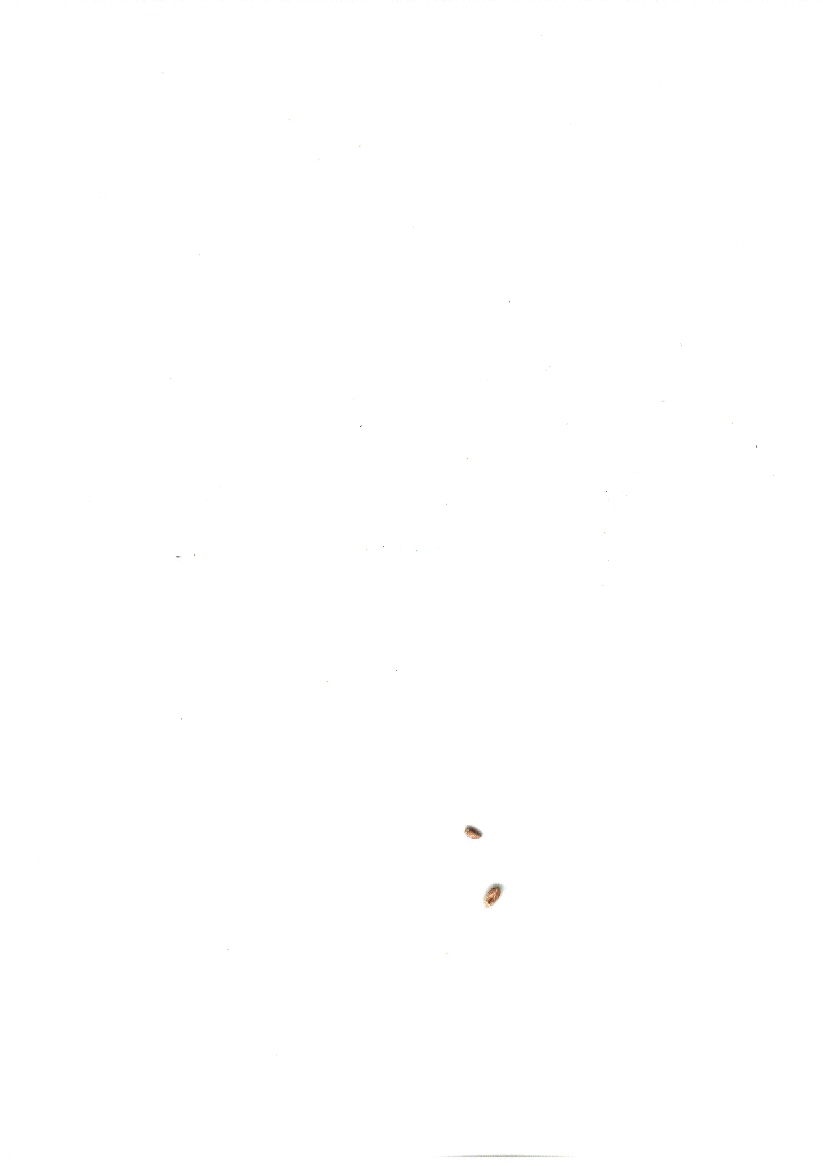grains: (475, 875, 514, 916), (459, 819, 490, 854)
